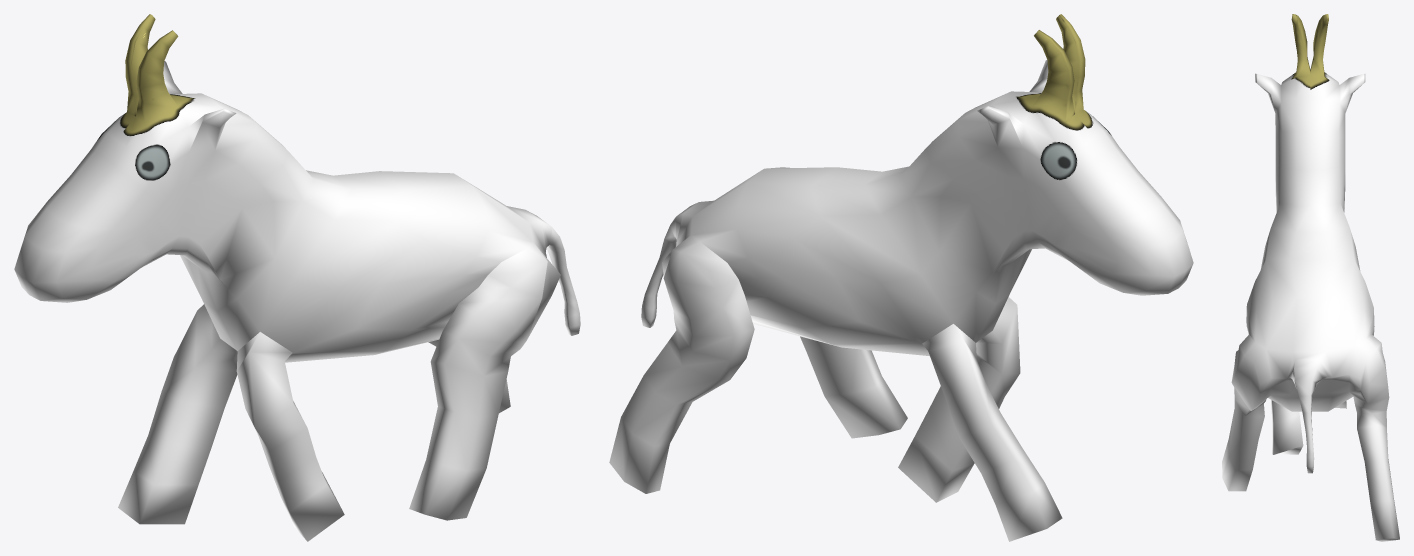
The model's file is goatAnim_000005.obj.
3 views of the same model, side by side, from view 1: azimuth 30°, elevation 25°; view 2: azimuth 150°, elevation 25°; view 3: azimuth 270°, elevation 25° (orthographic). The views are drawn at different scales.
Visible parts, largest first — view 1: Cube; view 2: Cube; view 3: Cube.
Part boxes in pixels (<box>): Cube: <box>14,14,580,541</box>; Cube: <box>609,14,1193,541</box>; Cube: <box>1222,14,1399,541</box>.
Size of the model in its own units: 1.31 by 1.19 by 0.4842.
